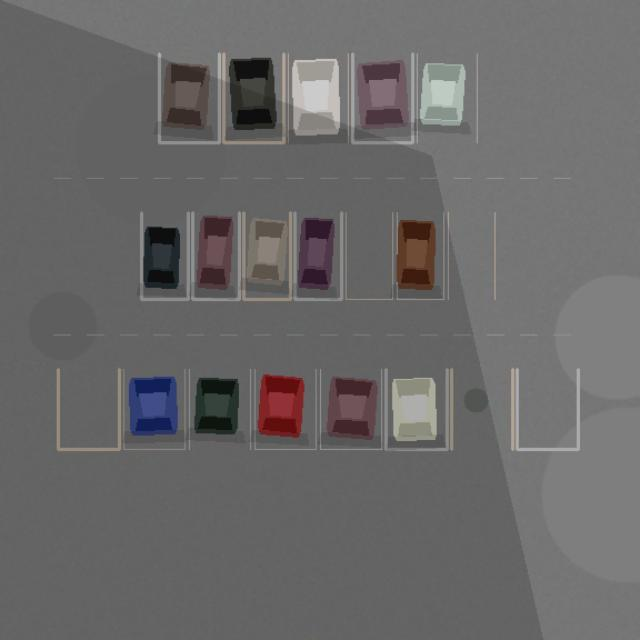space-empty: (58, 369, 119, 449), (451, 369, 512, 449), (517, 369, 578, 449), (346, 212, 392, 299), (448, 212, 494, 299)
space-occupied: (159, 53, 219, 142), (223, 53, 283, 142), (288, 53, 348, 142), (352, 53, 412, 142), (417, 53, 477, 142), (254, 369, 316, 449), (123, 369, 184, 449), (189, 369, 250, 449), (320, 369, 381, 449), (386, 369, 447, 449), (141, 212, 188, 299), (192, 212, 239, 299), (243, 212, 290, 299), (294, 212, 341, 299), (397, 212, 443, 299)
